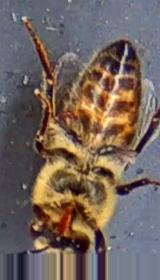varroa_mite: (51, 104, 82, 135)
